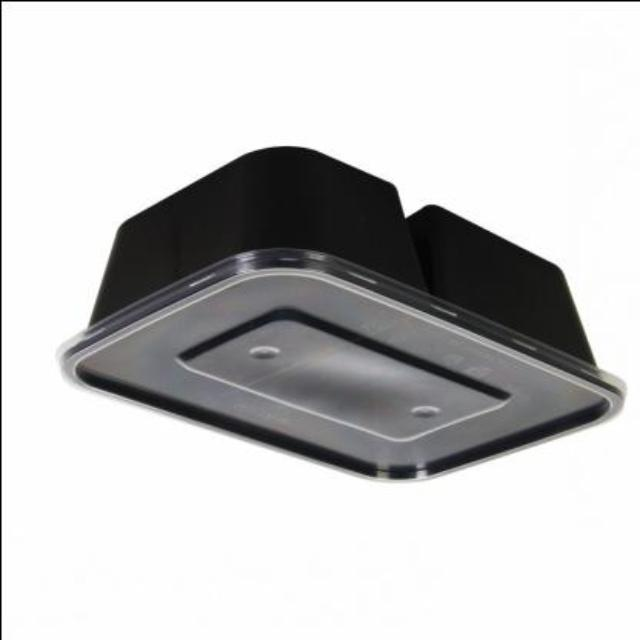plastic_box: (59, 142, 622, 486)
